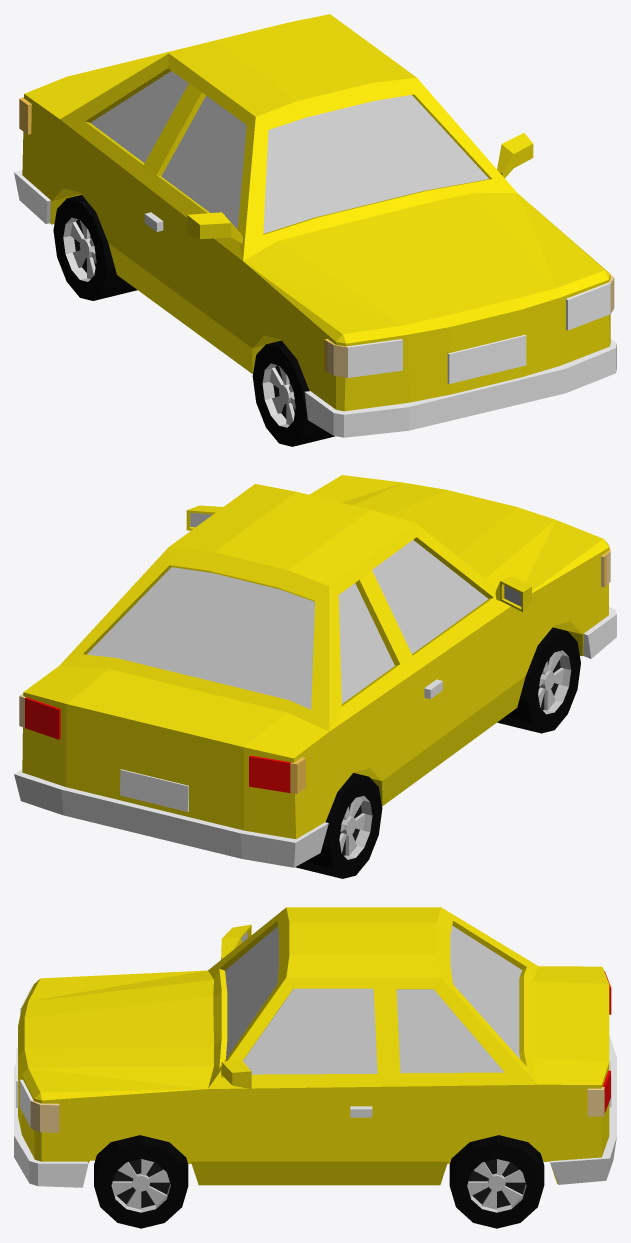
The model's file is Car-01-E.fbx.
3 views of the same model, one above another, from view 1: azimuth 30°, elevation 25°; view 2: azimuth 150°, elevation 25°; view 3: azimuth 270°, elevation 25° (orthographic). The views are drawn at different scales.
Visible parts, largest first — view 1: Car-01, BR, FR, High-Beam, Light-Right; view 2: Car-01, BR, FR, Break-Light; view 3: Car-01, BL, FL, Light-Left.
Part boxes in pixels (x1,y1,x2,y2): Car-01: [14, 14, 616, 437]; BR: [53, 195, 137, 300]; FR: [252, 340, 334, 446]; High-Beam: [346, 282, 610, 377]; Light-Right: [326, 339, 347, 377]; Car-01: [14, 475, 616, 867]; BR: [295, 773, 382, 878]; FR: [497, 627, 580, 733]; Break-Light: [25, 697, 290, 792]; Car-01: [14, 907, 616, 1187]; BL: [449, 1135, 544, 1228]; FL: [94, 1135, 188, 1228]; Light-Left: [30, 1087, 604, 1132].
Bounding box in the file's own units: 2.45 × 1.79 × 4.26.
